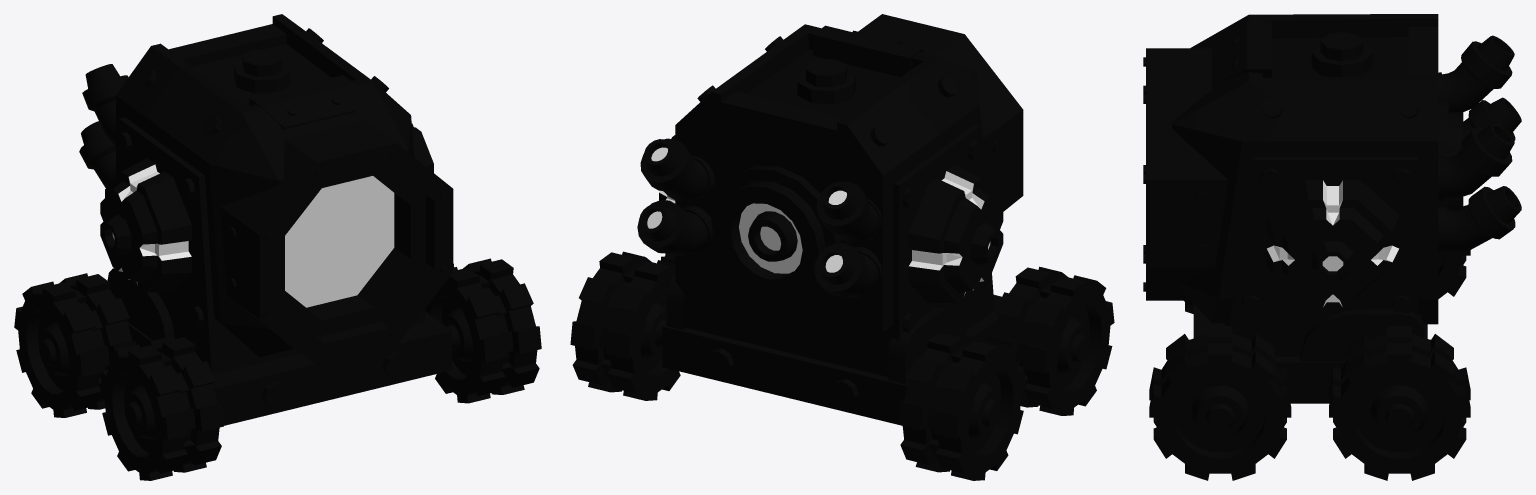
Rendered from MyEnemyBase.fbx.
3 renders of one model, left to right at view 1: azimuth 30°, elevation 25°; view 2: azimuth 150°, elevation 25°; view 3: azimuth 270°, elevation 25°, orthographic. The views are drawn at different scales.
Visible parts, largest first — view 1: basic_enemy.001, wheels_front, wheels_back, emission; view 2: basic_enemy.001, wheels_back, wheels_front, emission; view 3: basic_enemy.001, wheels_back, wheels_front, emission.
Part boxes in pixels (box(x1,y1,x2,y2)): basic_enemy.001: box(79, 14, 453, 425); wheels_front: box(100, 258, 541, 480); wheels_back: box(14, 263, 453, 417); emission: box(112, 164, 394, 307); basic_enemy.001: box(637, 14, 1023, 424); wheels_back: box(570, 251, 1025, 480); wheels_front: box(660, 253, 1114, 415); emission: box(647, 147, 990, 295); basic_enemy.001: box(1143, 14, 1521, 403); wheels_back: box(1329, 205, 1470, 480); wheels_front: box(1149, 300, 1291, 480); emission: box(1267, 180, 1398, 306).
Bounding box in the file's own units: 0.4805 × 0.3986 × 0.3966.
